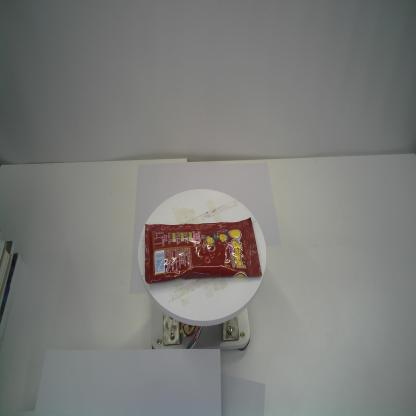Candy: (145, 217, 262, 285)
